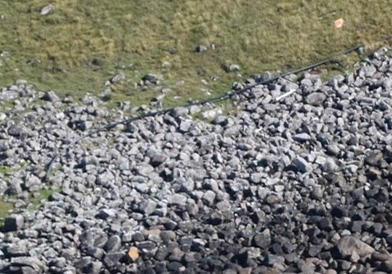tube: (241, 41, 368, 91), (105, 94, 230, 126), (43, 125, 101, 169)
white_in_green: (318, 3, 364, 44)
